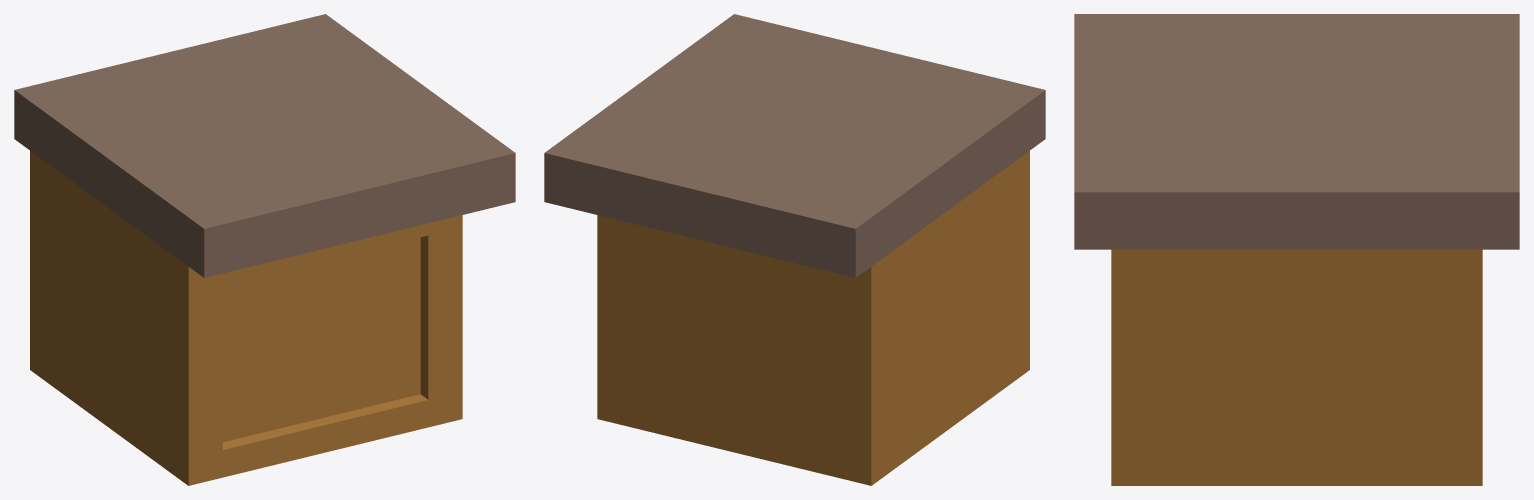
The model's file is counter right corner 1.fbx.
3 views of the same model, side by side, from view 1: azimuth 30°, elevation 25°; view 2: azimuth 150°, elevation 25°; view 3: azimuth 270°, elevation 25° (orthographic). The views are drawn at different scales.
Visible parts, largest first — view 1: right_counter; view 2: right_counter; view 3: right_counter.
Part boxes in pixels (x1,y1,x2,y2): right_counter: (14,14,515,485); right_counter: (544,14,1045,485); right_counter: (1074,14,1519,485).
Size of the model in its own units: 102 by 84.29 by 108.
2 materials, 2 textured.
